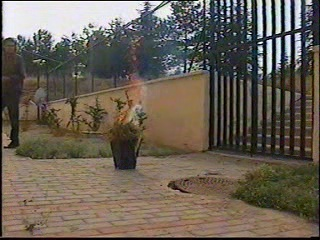smoke: (135, 33, 175, 84)
